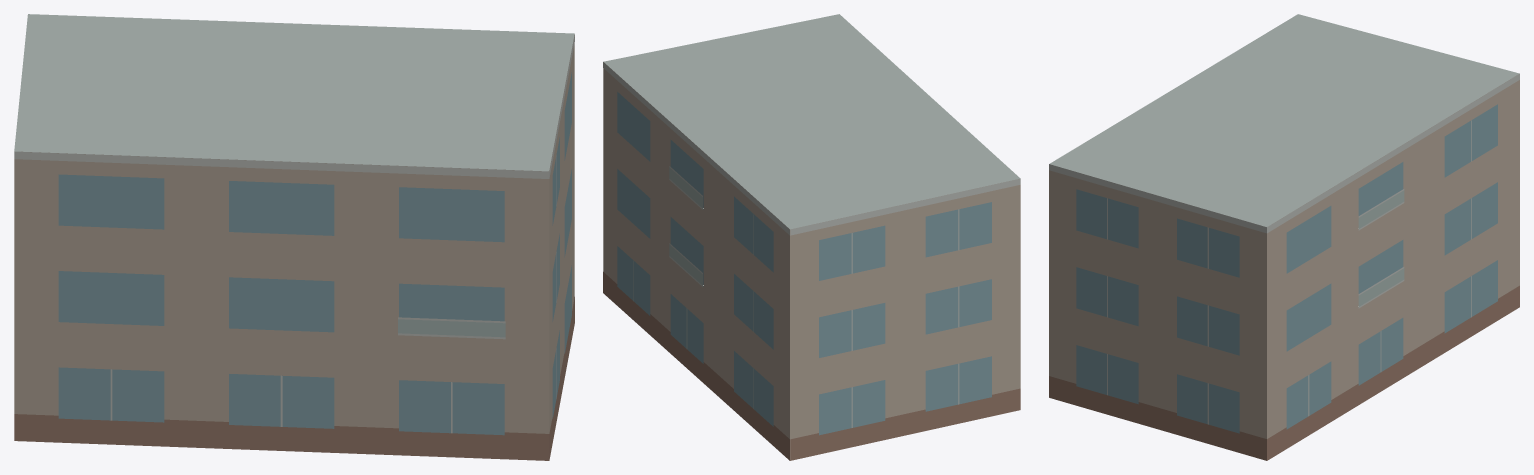
The model's file is survey-upis-32706677.glb.
The picture shows the model from 3 angles, left to right: view 1: azimuth 30°, elevation 25°; view 2: azimuth 150°, elevation 25°; view 3: azimuth 270°, elevation 25°; orthographic projection. The views are drawn at different scales.
Parts seen in each view (by area): view 1: survey-upis-32706677.tmp; view 2: survey-upis-32706677.tmp; view 3: survey-upis-32706677.tmp.
Part boxes in pixels (x1,y1,x2,y2): survey-upis-32706677.tmp: (14,14,574,460); survey-upis-32706677.tmp: (603,14,1020,460); survey-upis-32706677.tmp: (1049,14,1519,460).
Bounding box in the file's own units: 17.92 × 9.15 × 16.72.
